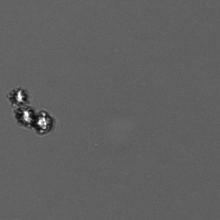Living Cell: (33, 109, 55, 135), (14, 106, 35, 127), (8, 86, 30, 106)
